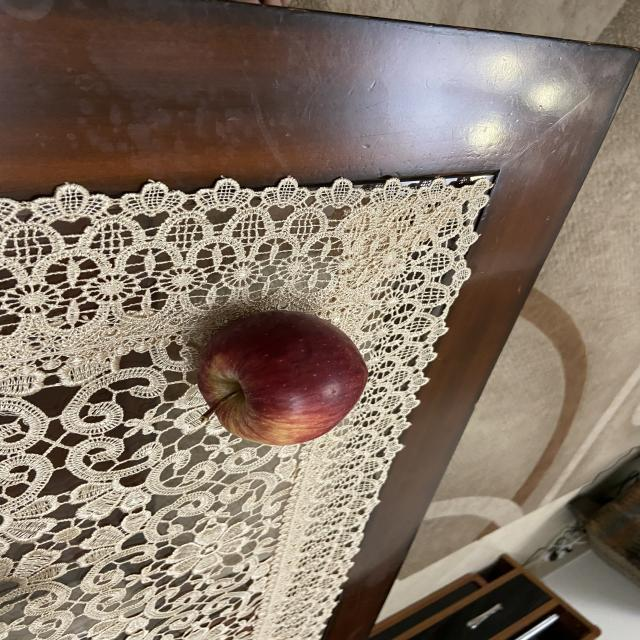apple: (183, 308, 373, 451)
